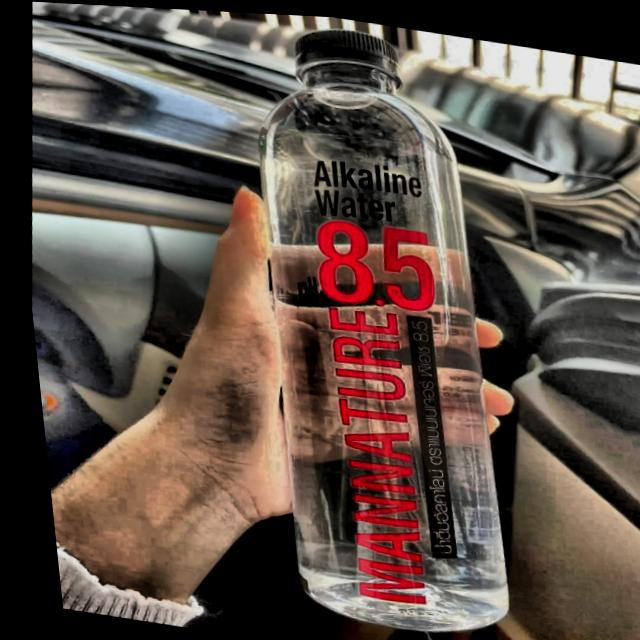Bottles: (179, 7, 585, 640)
